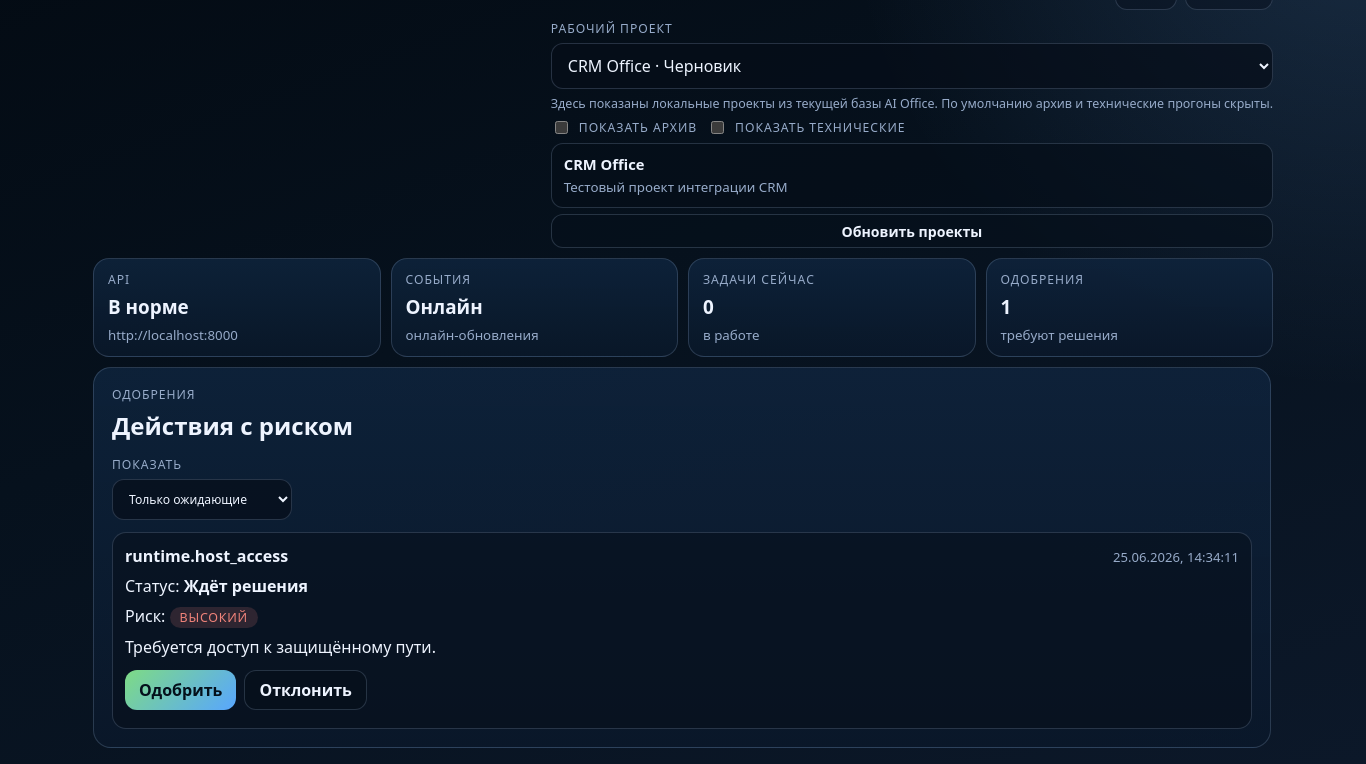
it: App integration › renders approvals route and resolves pending approval
The width and height of the screenshot is (1366, 764).
(page scrolled)
Check: the heading "Действия с риском" is shown, box [112,409,353,442]
What coordinates should you click on to do the following:
click the button "Одобрить"
I would click on:
 (181, 690)
Its box is [125,670,236,710].
(page scrolled)
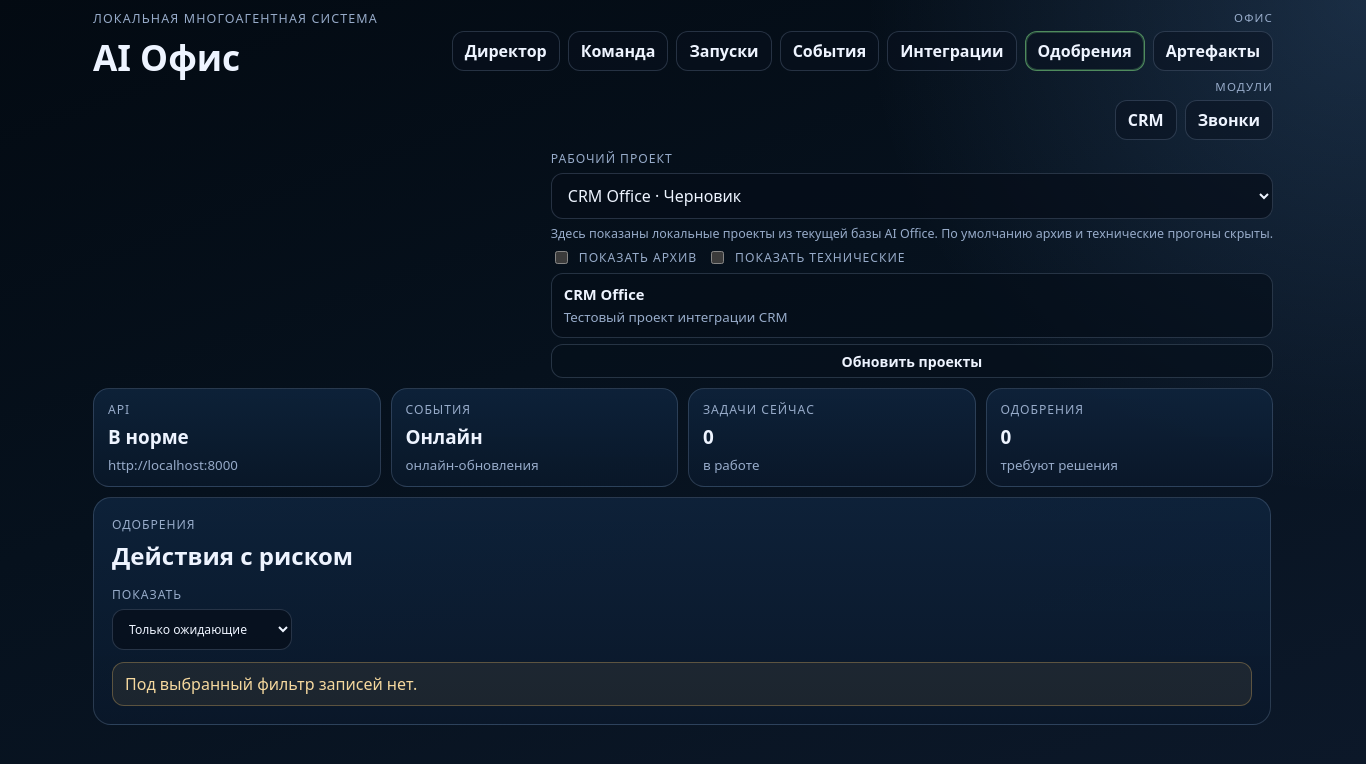
Check: the text "Под выбранный фильтр записей нет." is shown, box [112,662,1252,706]
